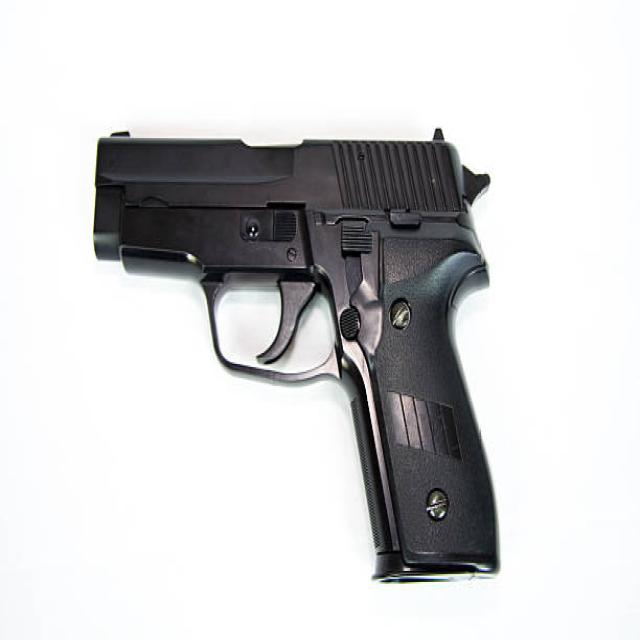pistol: (90, 118, 504, 593)
